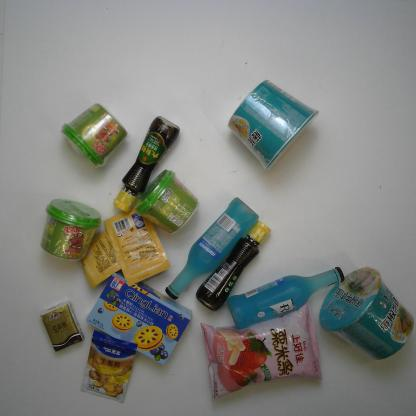Alcohol: (165, 196, 261, 302), (227, 266, 347, 330)
Dessert: (82, 271, 197, 367)
Instant Drink: (59, 100, 133, 171), (134, 168, 202, 235), (39, 198, 102, 262)
Instant Noodles: (317, 264, 416, 362), (226, 76, 321, 174)
Puffed Food: (198, 300, 324, 402)
Seasoner: (194, 219, 273, 312), (112, 113, 181, 214), (103, 207, 172, 287), (80, 329, 138, 404), (80, 228, 122, 290)
Tissue: (40, 300, 85, 352)
